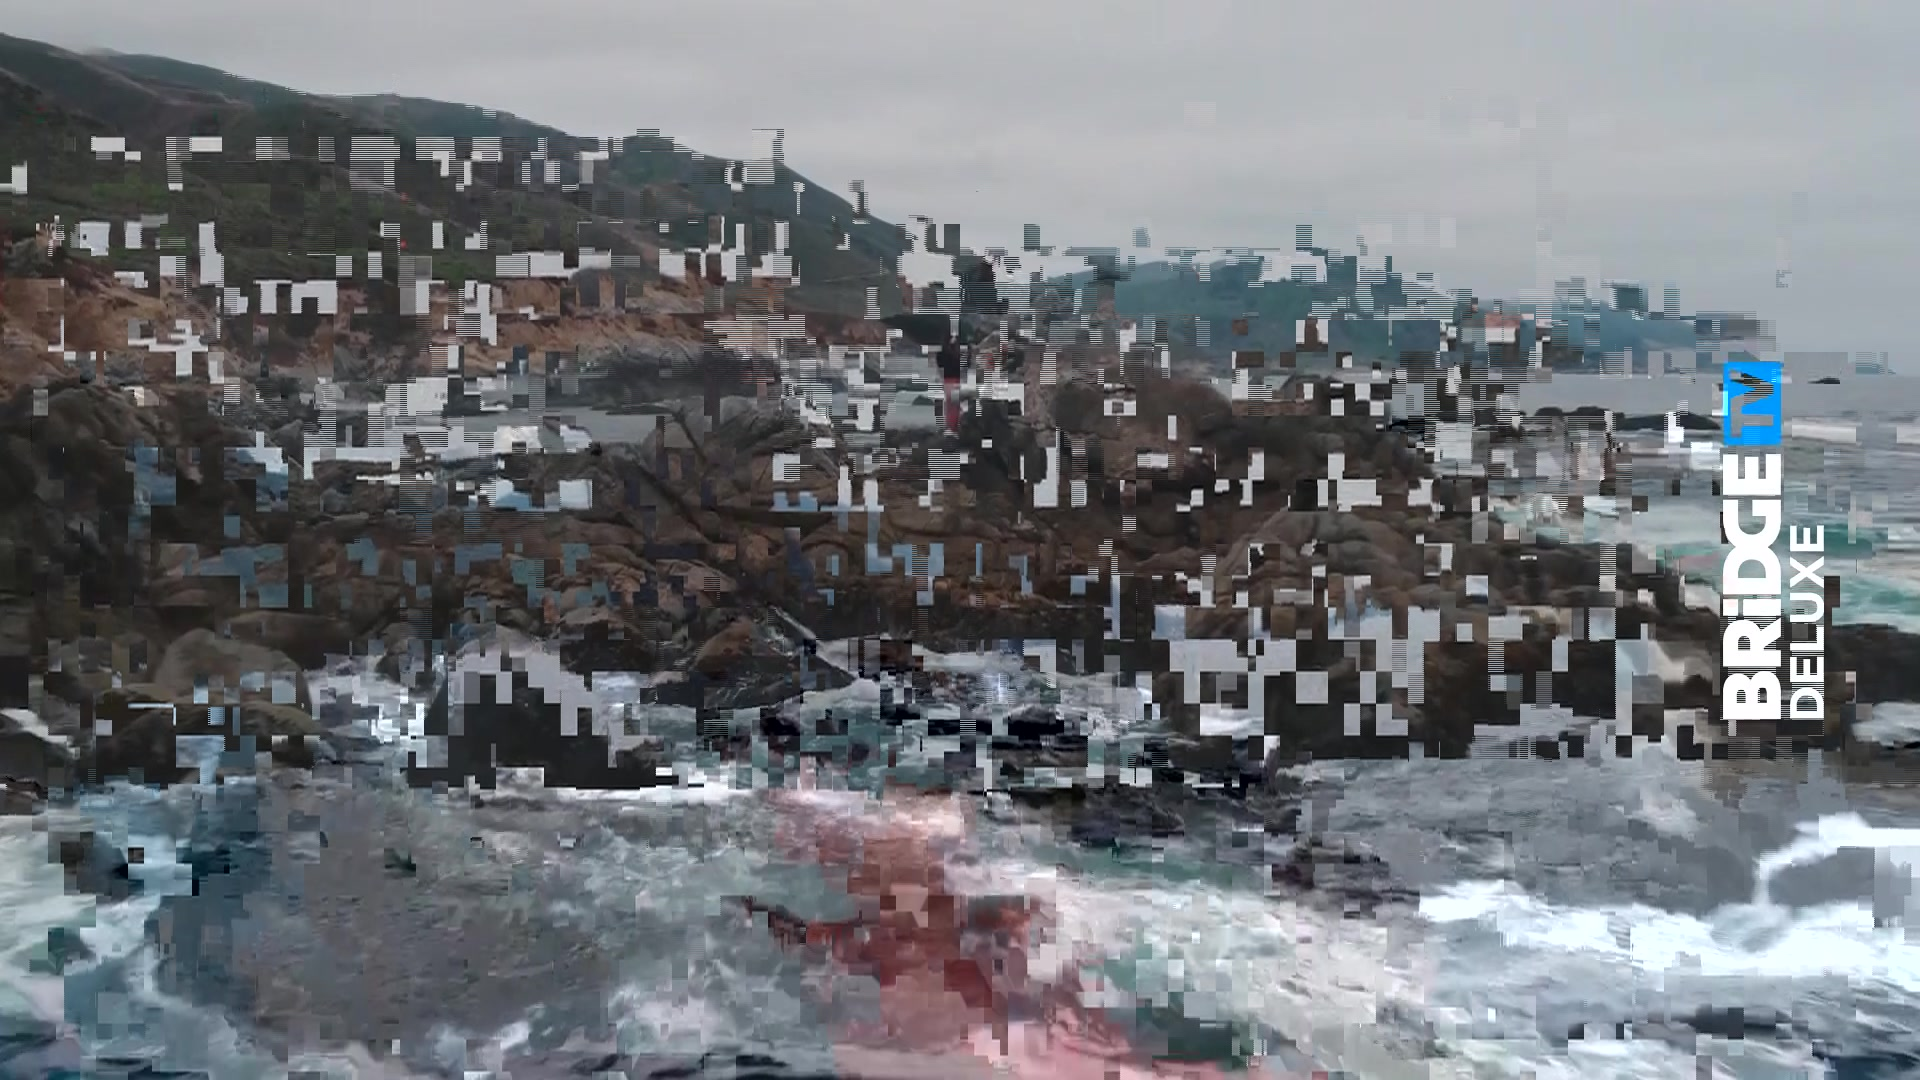Bridge_TV_Deluxe: (1718, 351, 1832, 727)
